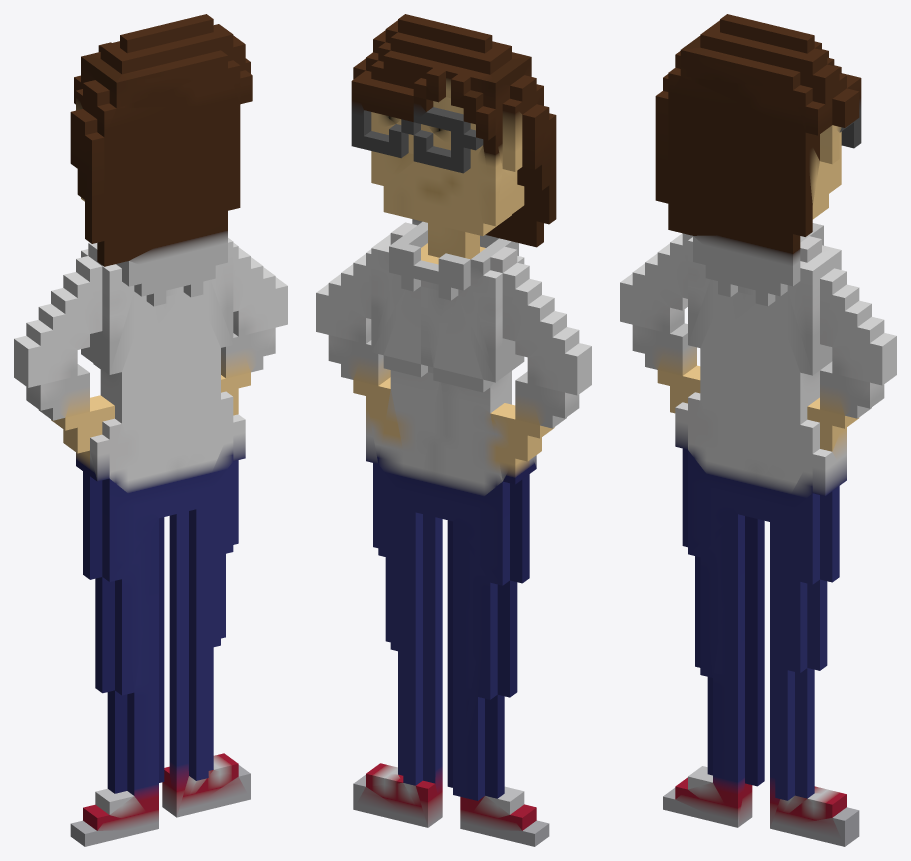
Rendered from Programmer.dae.
3 renders of one model, left to right at view 1: azimuth 30°, elevation 25°; view 2: azimuth 150°, elevation 25°; view 3: azimuth 330°, elevation 25°, orthographic.
Parts seen in each view (by area): view 1: programmer.merged; view 2: programmer.merged; view 3: programmer.merged.
Part boxes in pixels (bbox=[...]): programmer.merged: bbox=[14, 14, 287, 846]; programmer.merged: bbox=[316, 14, 591, 846]; programmer.merged: bbox=[620, 14, 896, 846].
Size of the model in its own units: 2.1 by 0.6 by 6.1.
1 material, 1 textured.
